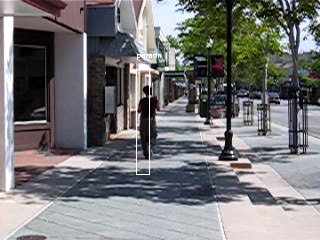person: (137, 86, 160, 161), (136, 86, 159, 161), (138, 86, 161, 161), (137, 85, 160, 160), (137, 87, 160, 162)
target_negative: (259, 19, 304, 116), (277, 65, 286, 226), (152, 232, 273, 235), (306, 119, 315, 138), (279, 225, 280, 236)
